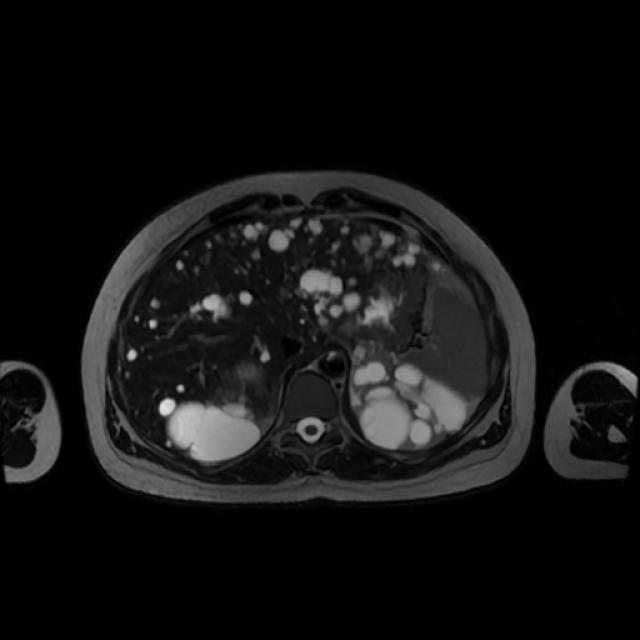sag: (169, 400, 259, 459)
sol: (355, 335, 471, 446)
